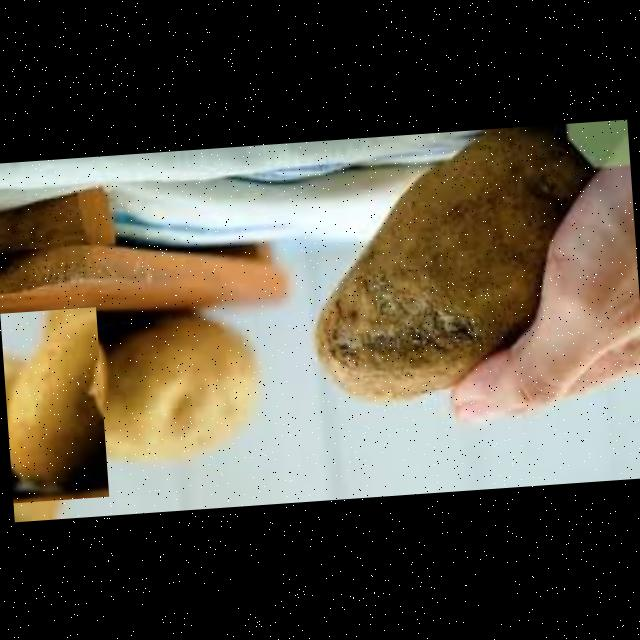Diseased-fungal potato: (283, 120, 629, 429)
Potato: (65, 316, 258, 468), (0, 306, 107, 502)
